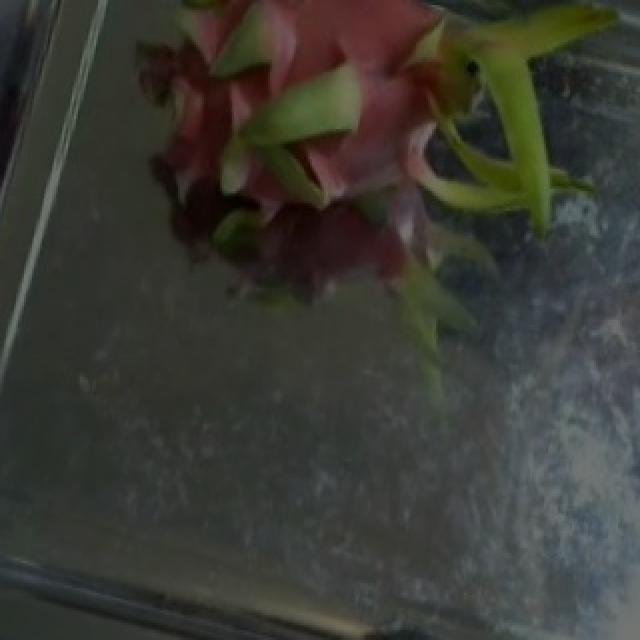fruit: (180, 0, 630, 380)
